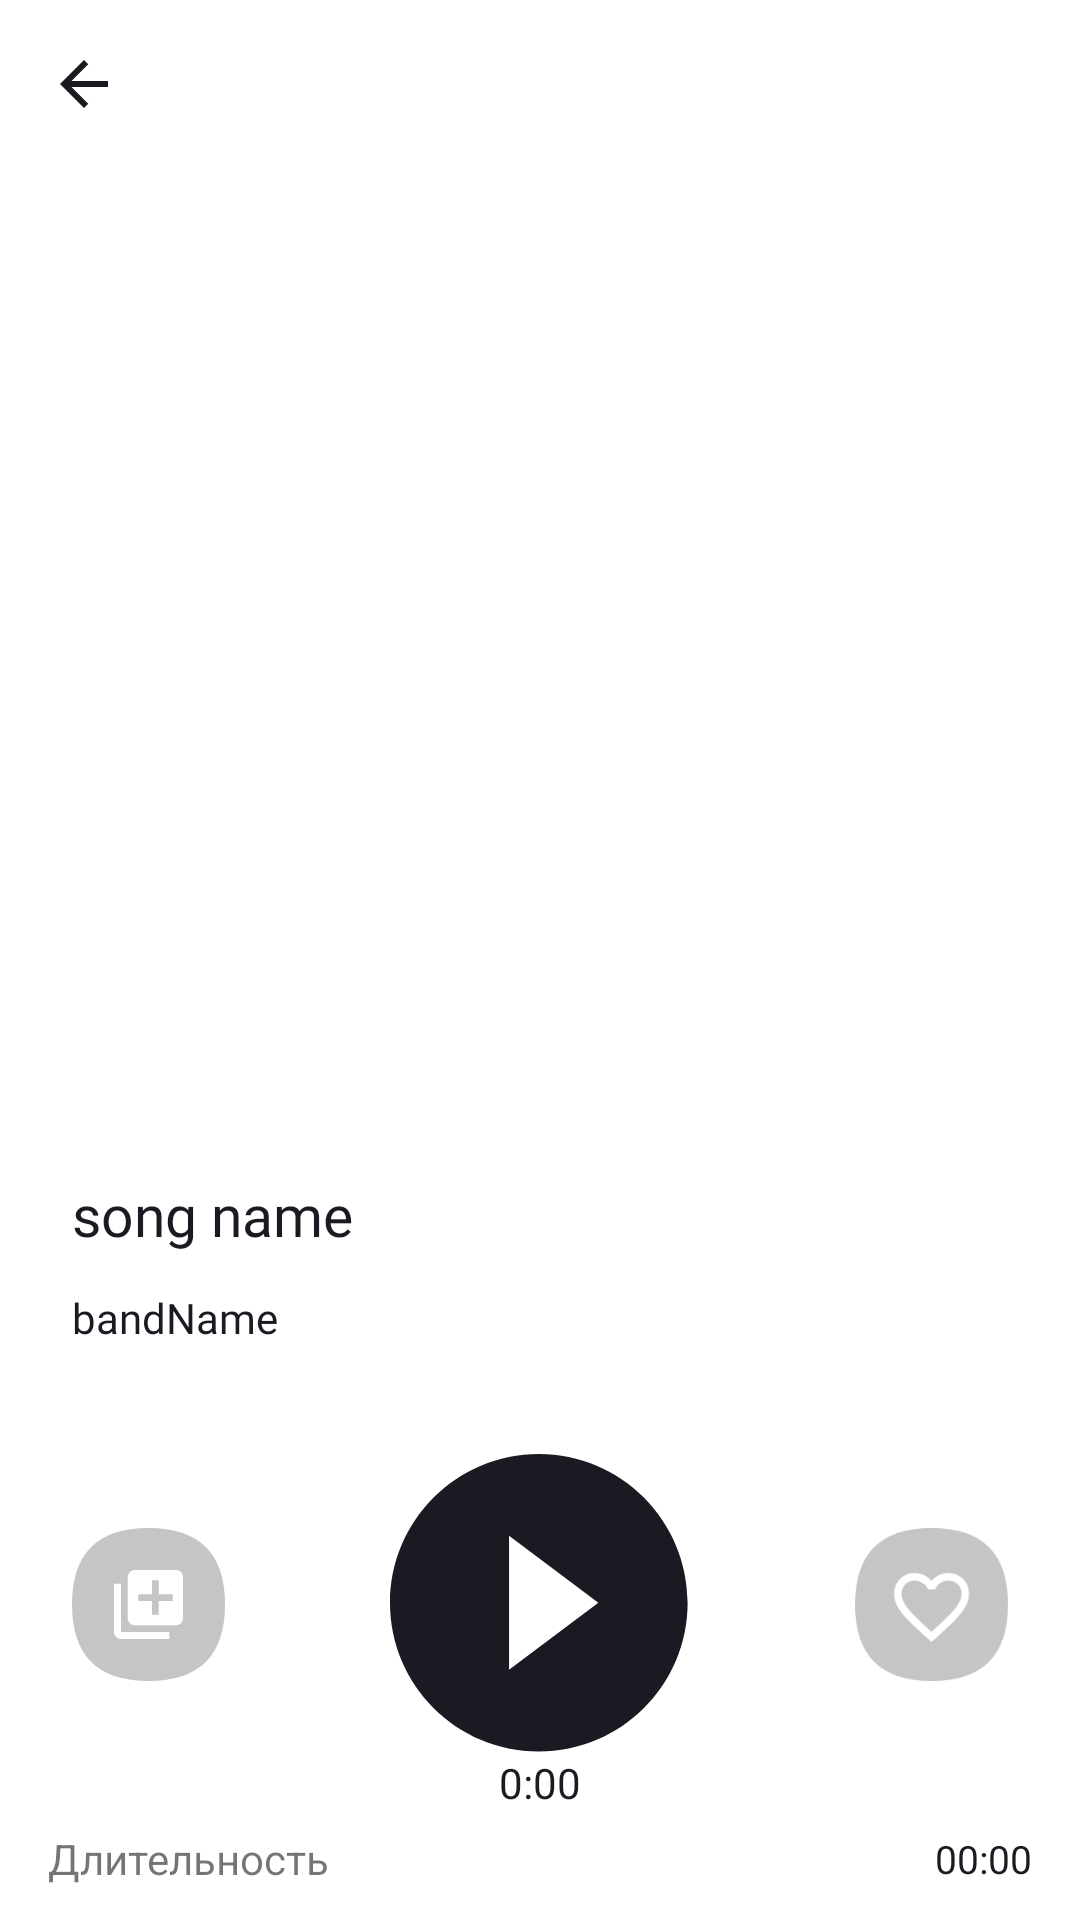

Named icons in this screenshot (1080 x 1920) and their centers, [x,y]:
add in favorites: [931,1604]
add in playlist: [148,1604]
play: [539,1603]
